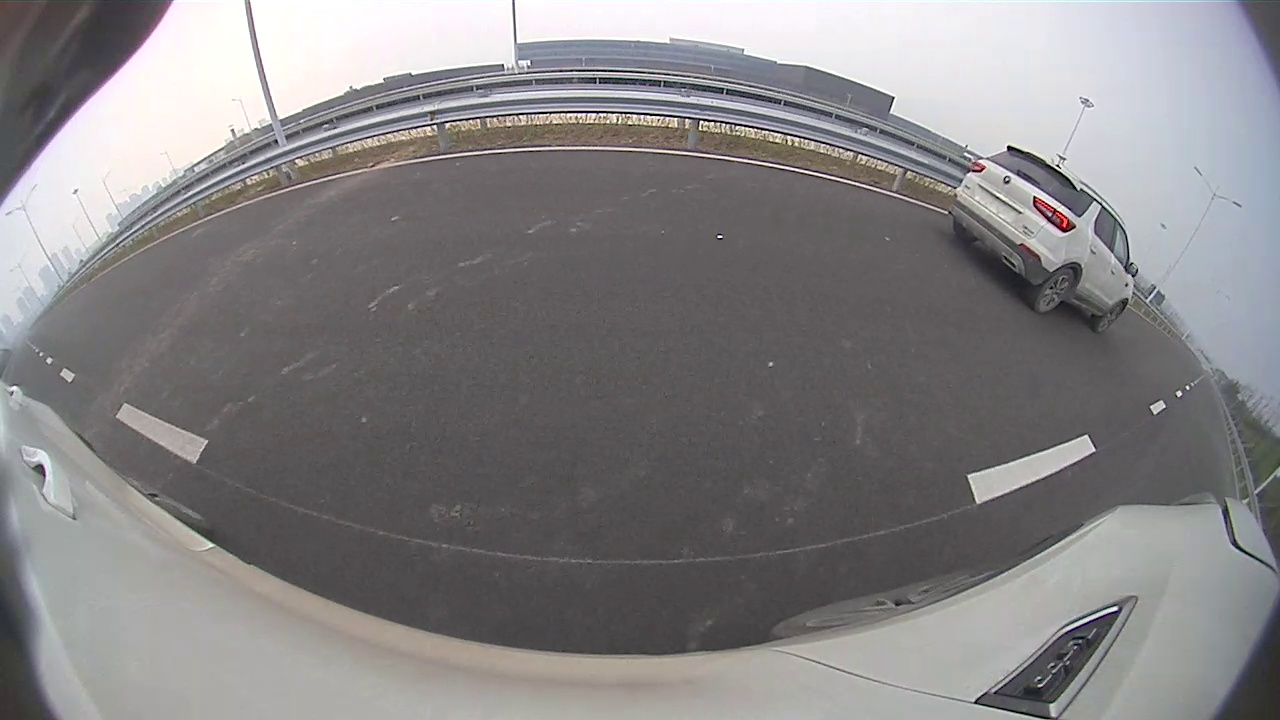car: (949, 145, 1138, 334)
front: (1094, 298, 1126, 333)
rear: (1034, 267, 1079, 314)
